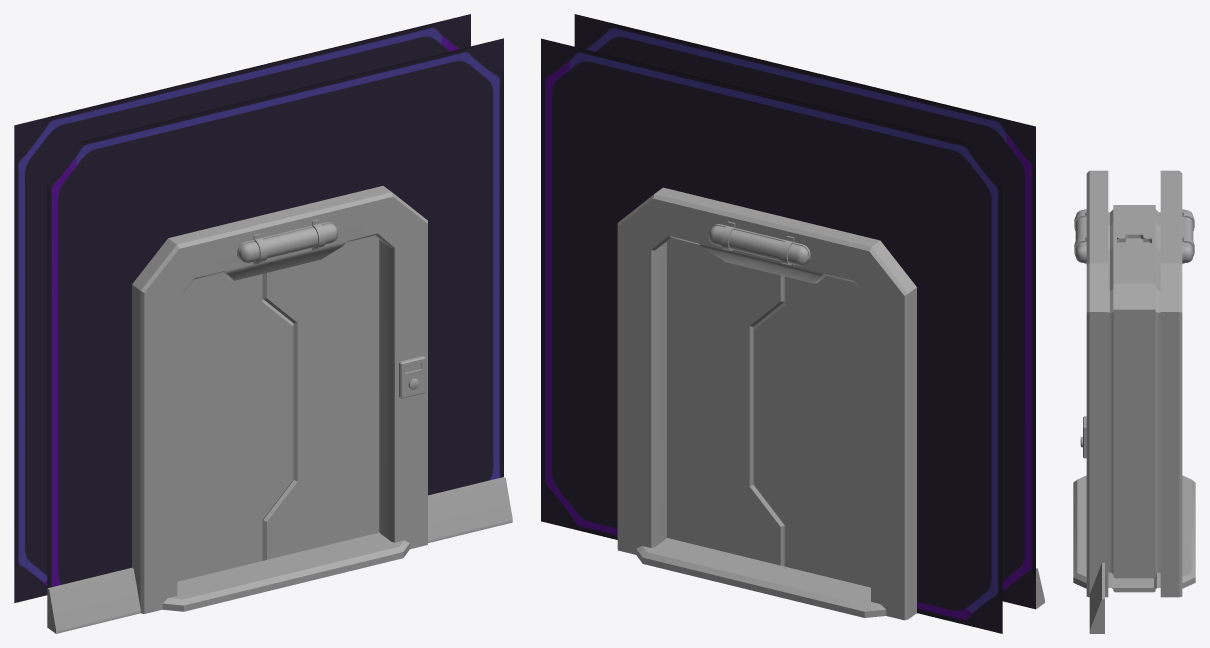
The model's file is wqesdafg.fbx.
The picture shows the model from 3 angles, left to right: view 1: azimuth 30°, elevation 25°; view 2: azimuth 150°, elevation 25°; view 3: azimuth 270°, elevation 25°; orthographic projection. The views are drawn at different scales.
Visible parts, largest first — view 1: Door_cell_01_door_wall1, door_frame_low, sx_door_02_low, dx_door_02_low, zoccolino_smoldoor_low, door_bottom_low, Door_light_small_low, door_screen_low; view 2: Door_cell_01_door_wall1, door_frame_low, sx_door_02_low, dx_door_02_low, door_bottom_low, Door_light_small_low; view 3: door_frame_low, door_bottom_low, Door_light_small_low, zoccolino_smoldoor_low, door_screen_low.
Boxes of the visible parts, x1=… form: Door_cell_01_door_wall1: x1=14, y1=14, x2=503, y2=602; door_frame_low: x1=132, y1=186, x2=427, y2=613; sx_door_02_low: x1=177, y1=273, x2=293, y2=581; dx_door_02_low: x1=263, y1=235, x2=379, y2=560; zoccolino_smoldoor_low: x1=47, y1=477, x2=512, y2=633; door_bottom_low: x1=162, y1=532, x2=409, y2=611; Door_light_small_low: x1=237, y1=219, x2=337, y2=264; door_screen_low: x1=399, y1=356, x2=425, y2=398; Door_cell_01_door_wall1: x1=541, y1=14, x2=1035, y2=633; door_frame_low: x1=617, y1=187, x2=916, y2=620; sx_door_02_low: x1=753, y1=275, x2=870, y2=587; dx_door_02_low: x1=667, y1=238, x2=784, y2=566; door_bottom_low: x1=636, y1=538, x2=886, y2=617; Door_light_small_low: x1=709, y1=221, x2=810, y2=267; door_frame_low: x1=1086, y1=170, x2=1182, y2=597; door_bottom_low: x1=1073, y1=475, x2=1195, y2=592; Door_light_small_low: x1=1074, y1=209, x2=1194, y2=263; zoccolino_smoldoor_low: x1=1089, y1=562, x2=1104, y2=633; door_screen_low: x1=1080, y1=416, x2=1086, y2=458.
Bounding box in the file's own units: 794 × 794 × 208.
Materials: 2 (1 with a texture image).
